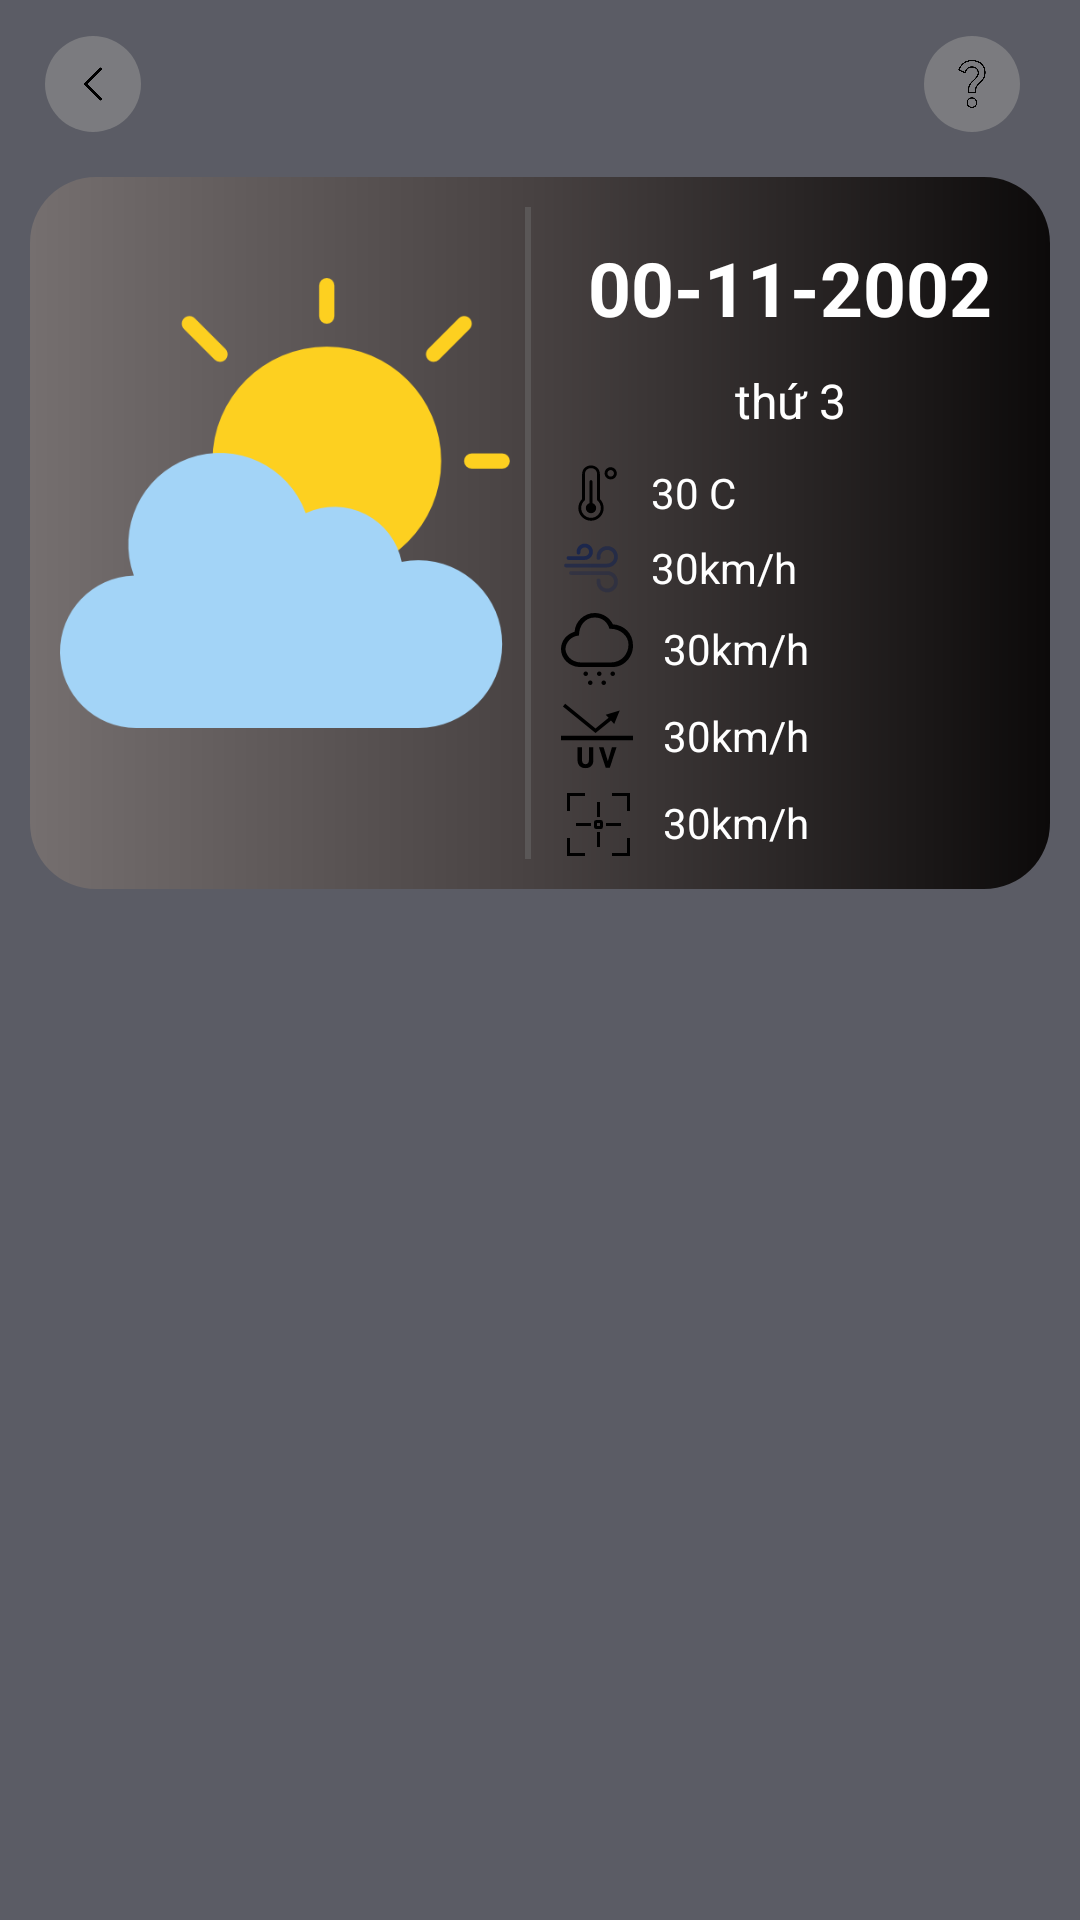

Screen size 1080x1920. Icon name, then its box in pixels as (x1, y1, x2, y2):
back: (45, 36, 141, 132)
question: (924, 36, 1020, 132)
